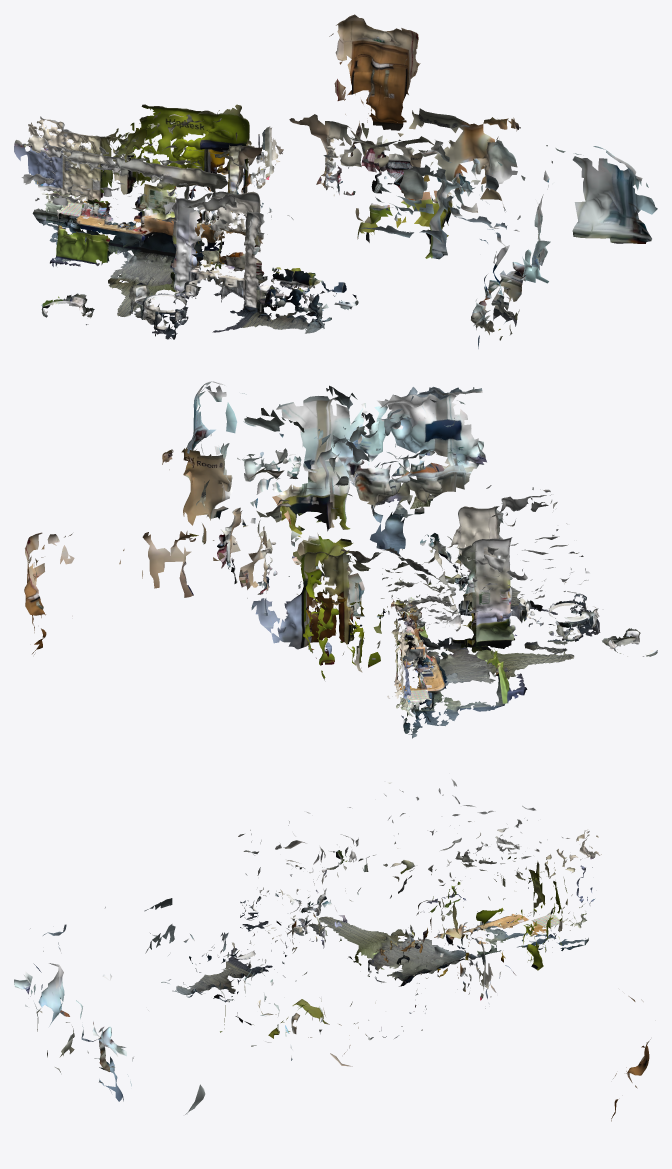
File: 128926-LibraryV2-tex.glb
3 renders of one model, top to bottom at view 1: azimuth 30°, elevation 25°; view 2: azimuth 150°, elevation 25°; view 3: azimuth 270°, elevation 25°, orthographic. The views are drawn at different scales.
Parts seen in each view (by area): view 1: Node; view 2: Node; view 3: Node.
Part boxes in pixels (<box>): Node: <box>14,14,657,348</box>; Node: <box>24,381,657,738</box>; Node: <box>14,779,650,1121</box>.
Size of the model in its own units: 17.62 by 5.14 by 16.28.
Materials: 21 (21 with a texture image).
